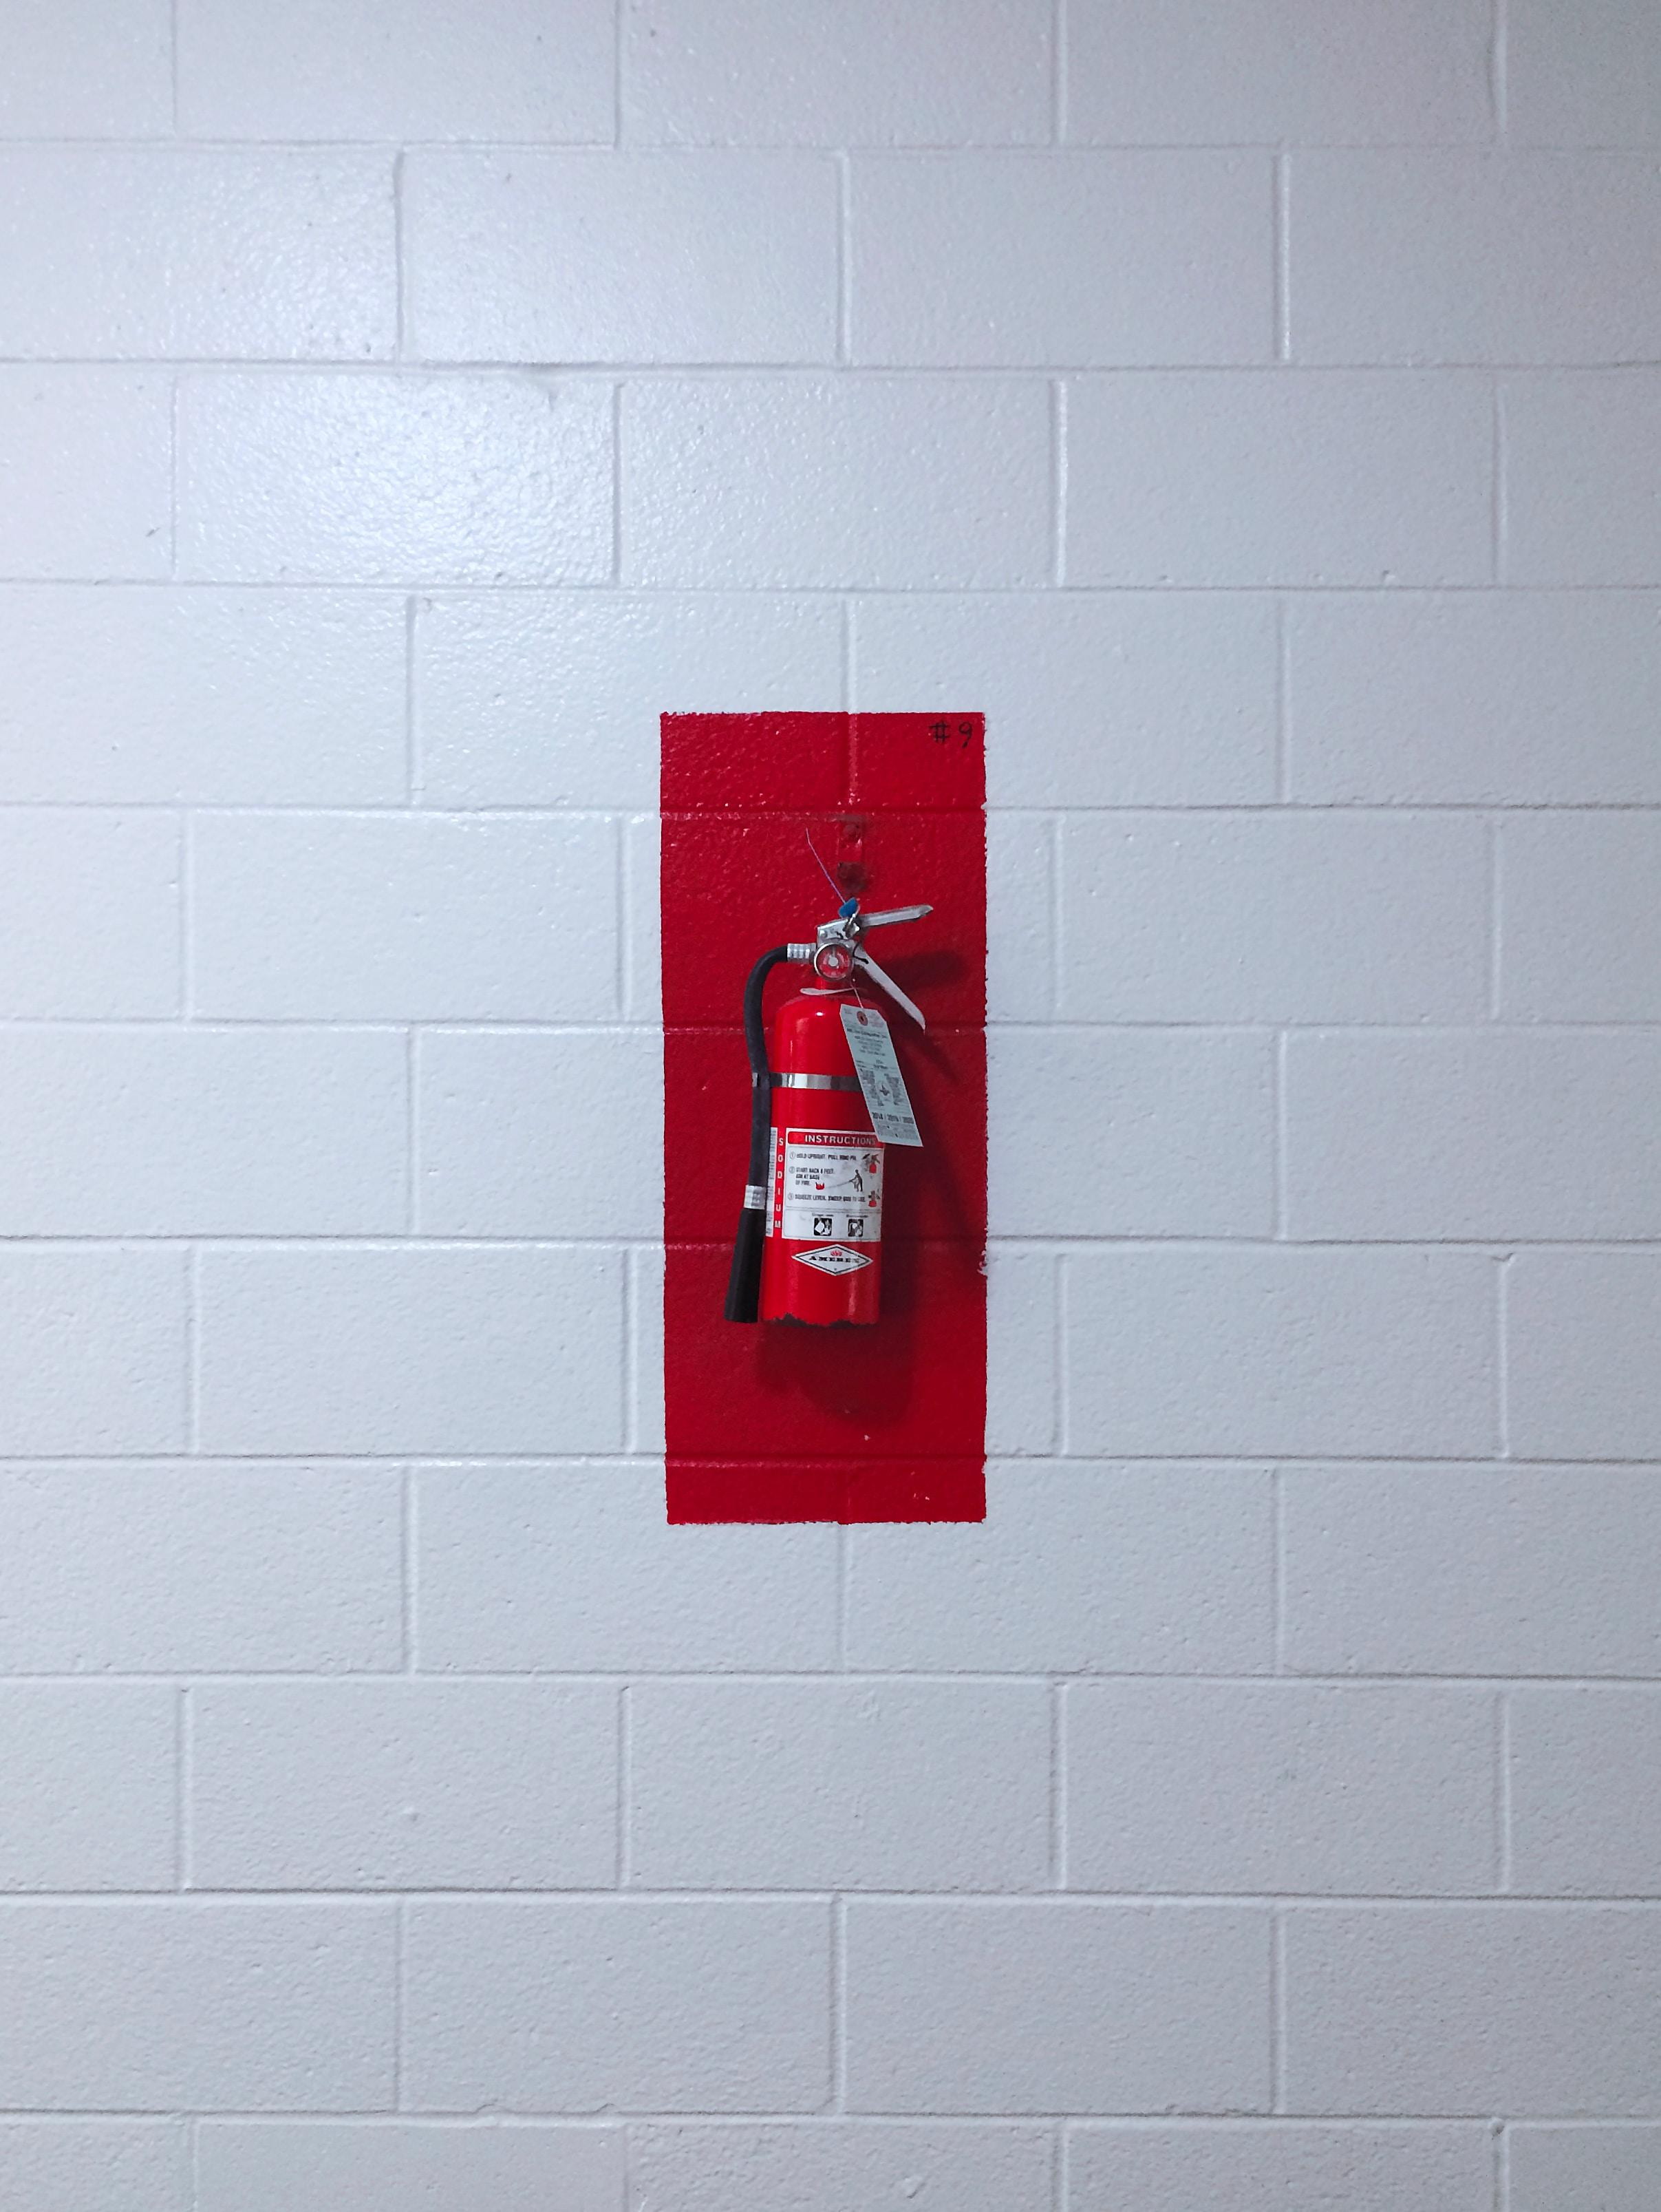Fire Extinguisher: (668, 778, 963, 1439)
